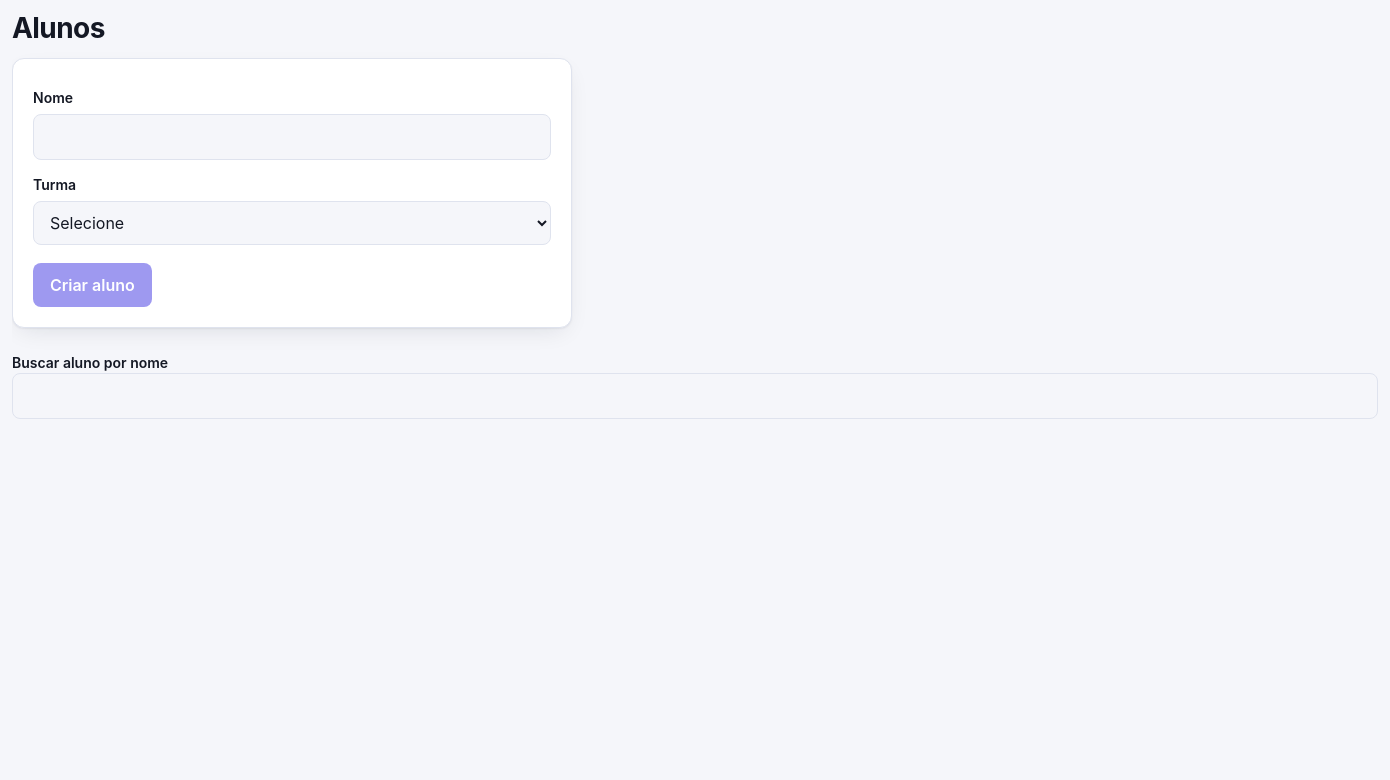
Test: AlunosCadastroPage › creates aluno + matrícula, shows "Salvo com sucesso" and lists the new aluno
This screenshot has width=1390, height=780.
Type "Pedro Alves" into the field labelled "Nome". click: point(292, 137)
box: [33, 114, 551, 160]
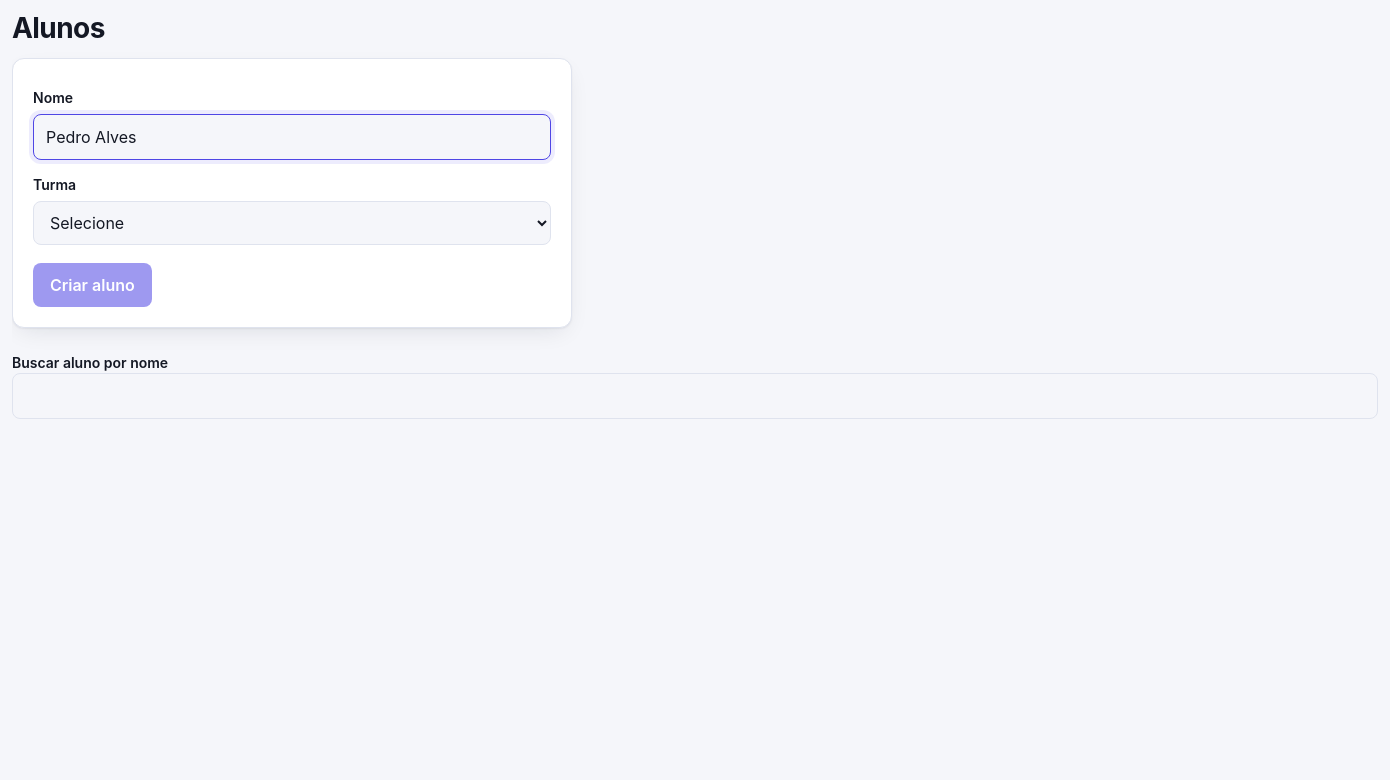
Select "Turma A" in the dropdown labelled "Turma". click: point(292, 223)
box: [33, 201, 551, 245]
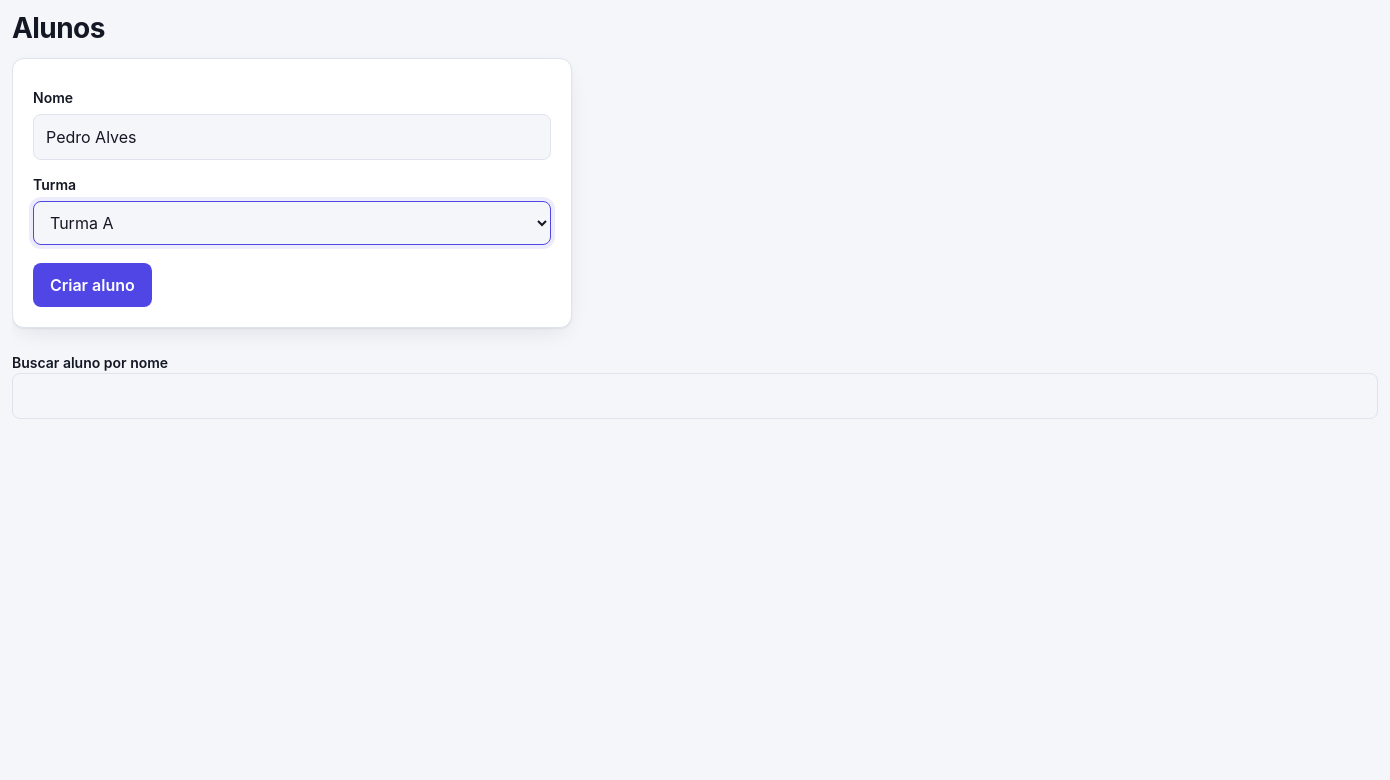
Click the button "Criar aluno". click: point(92, 285)
box: [33, 263, 152, 307]
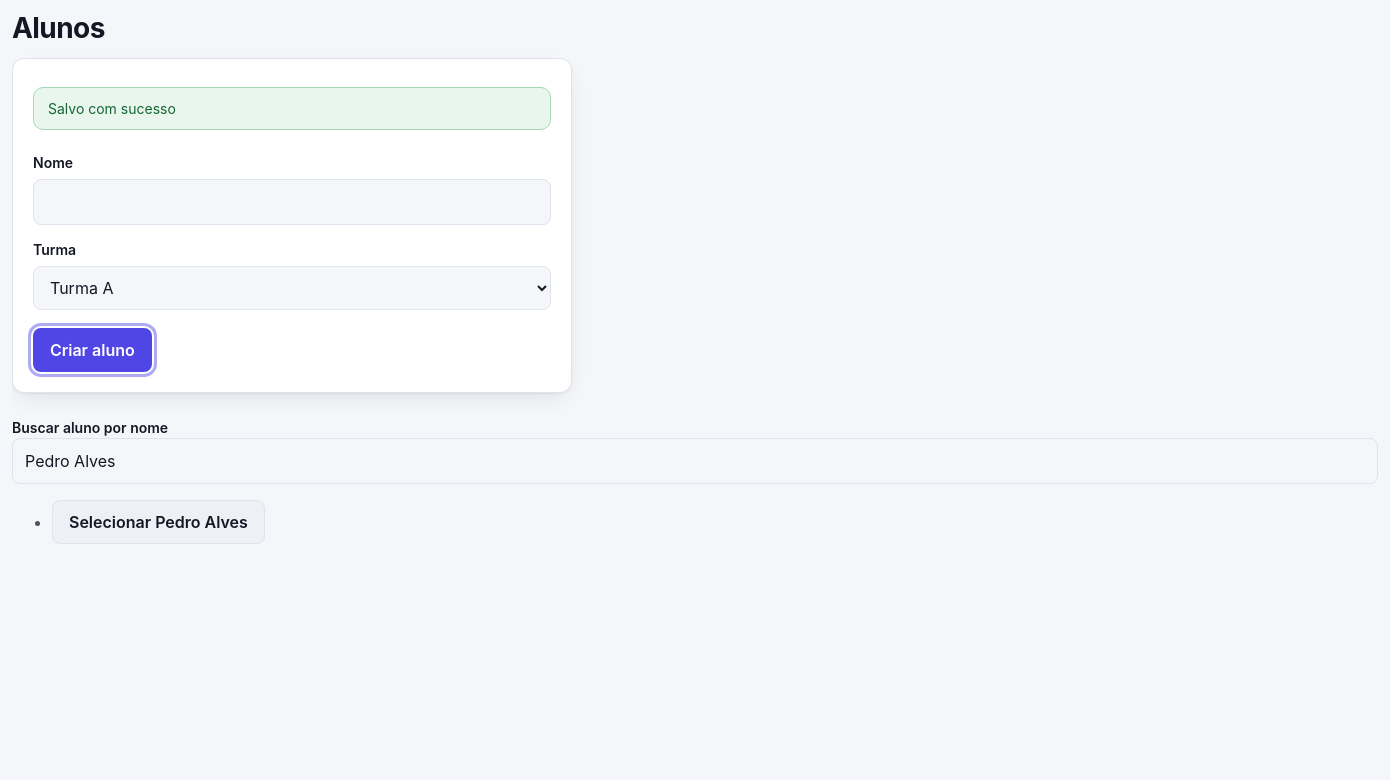
expect the text "Salvo com sucesso" is shown: met, box [33, 87, 551, 130]
expect the button "Selecionar Pedro Alves" is shown: met, box [52, 500, 265, 544]
